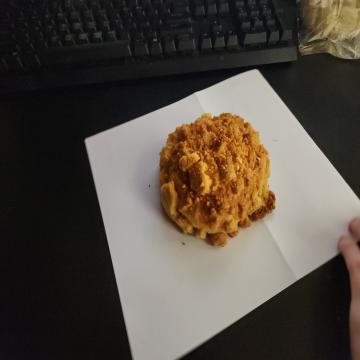soboru_bread: (164, 111, 279, 250)
